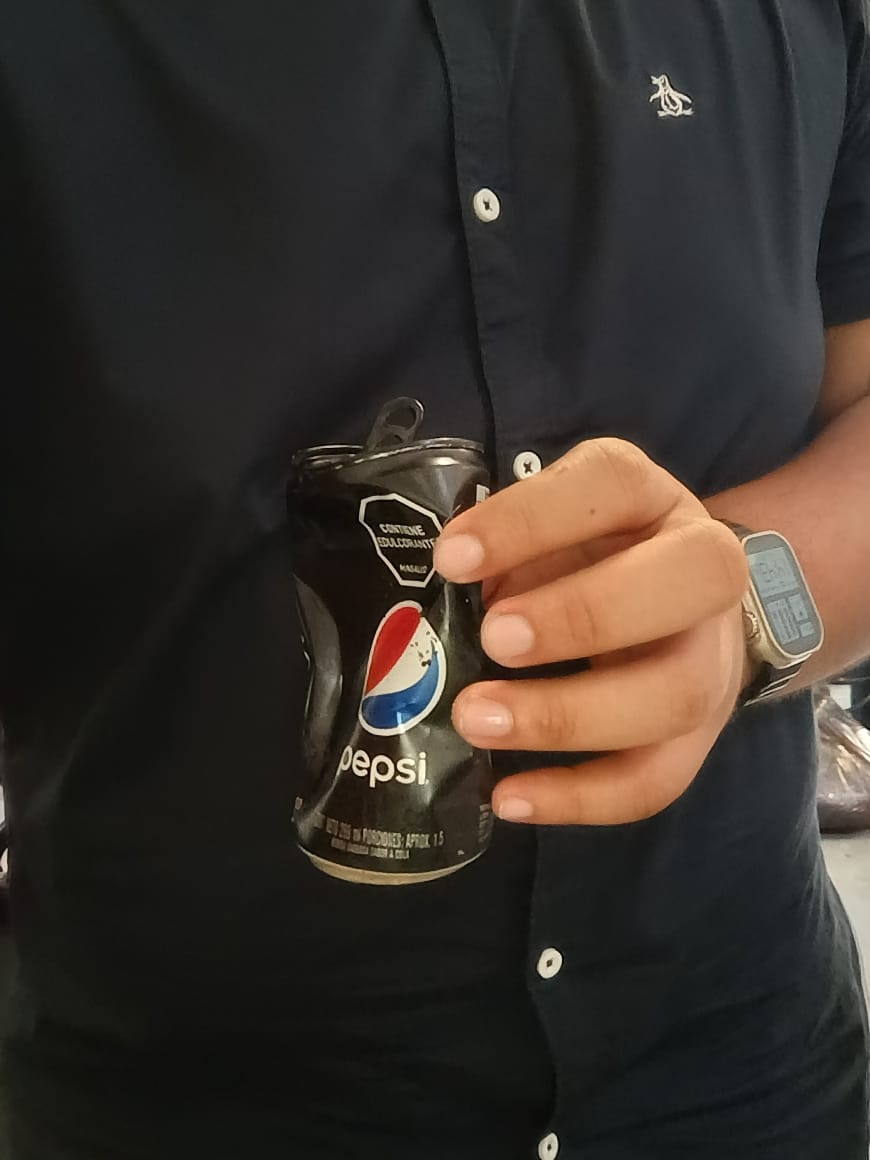Metal: (293, 398, 490, 885)
